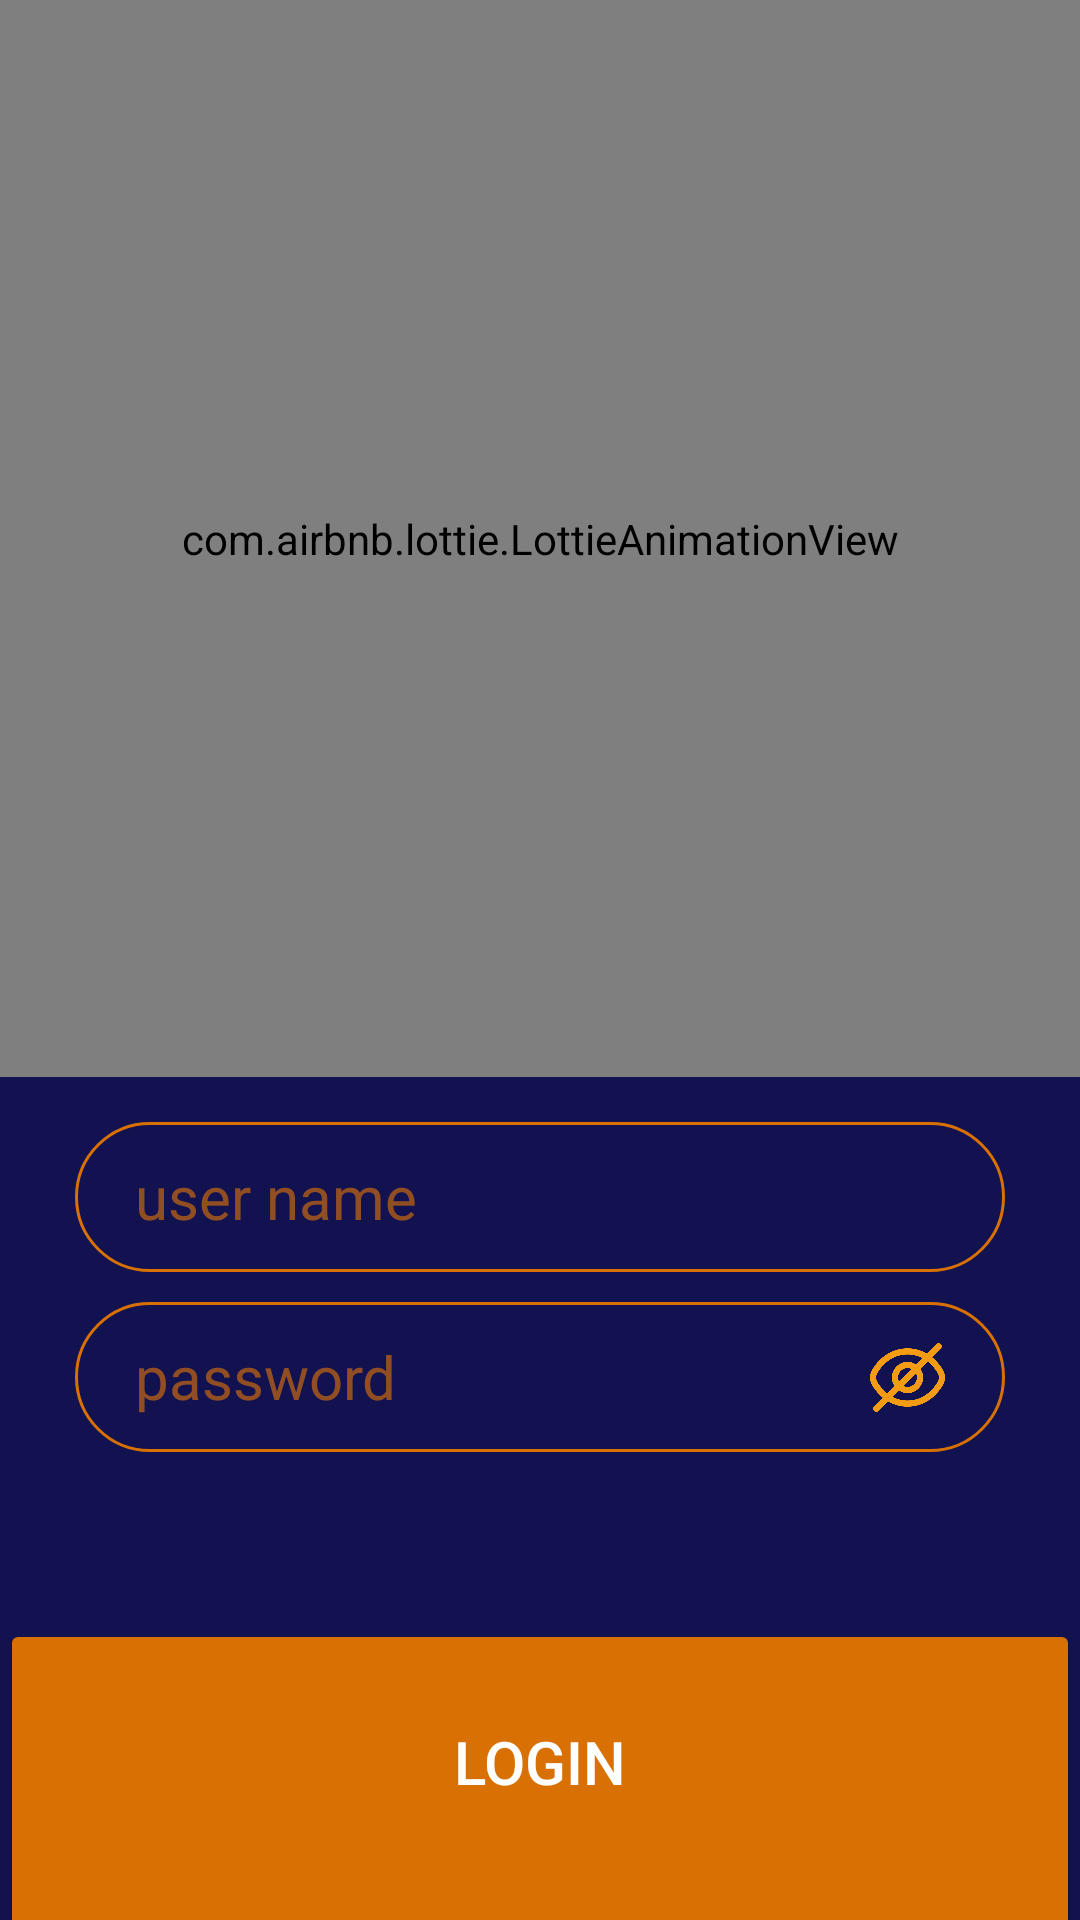

Locate icon controls on the screen. Image size 1080w x 1920h, boxes as (x1, y1, x2, y2).
eye hide: (870, 1343, 945, 1412)
